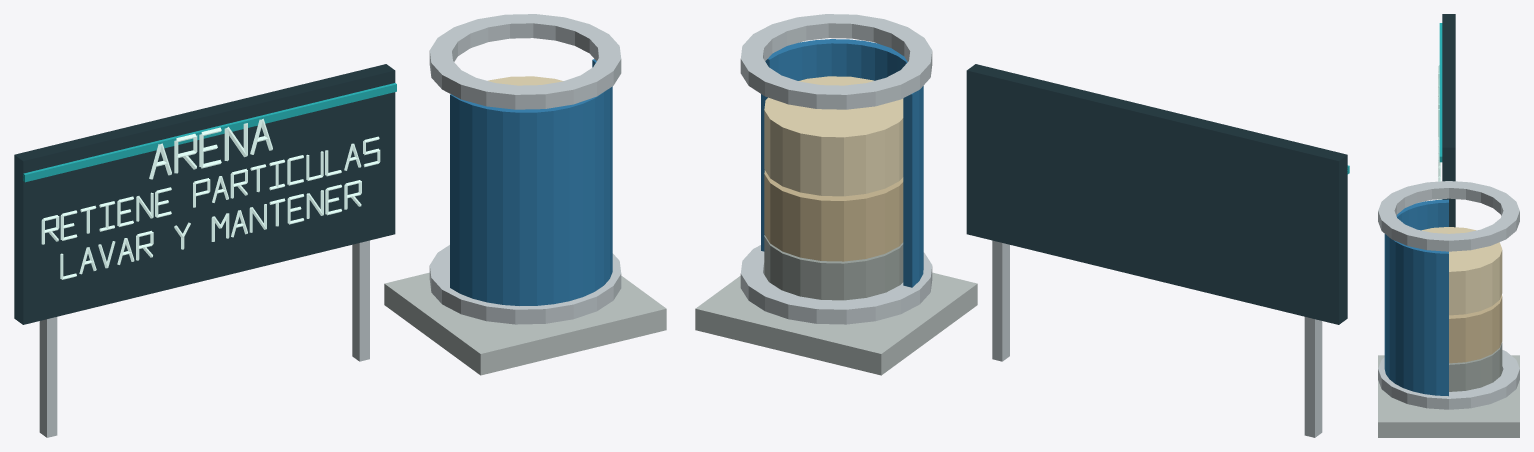
Rendered from AQUA-012.glb.
3 renders of one model, left to right at view 1: azimuth 30°, elevation 25°; view 2: azimuth 150°, elevation 25°; view 3: azimuth 270°, elevation 25°, orthographic. The views are drawn at different scales.
Visible parts, largest first — view 1: AQUA-012; view 2: AQUA-012; view 3: AQUA-012.
Part boxes in pixels (x1=…): AQUA-012: x1=14, y1=14, x2=666, y2=437; AQUA-012: x1=695, y1=14, x2=1349, y2=437; AQUA-012: x1=1378, y1=14, x2=1519, y2=437.
Size of the model in its own units: 4.68 by 2.11 by 1.3.
